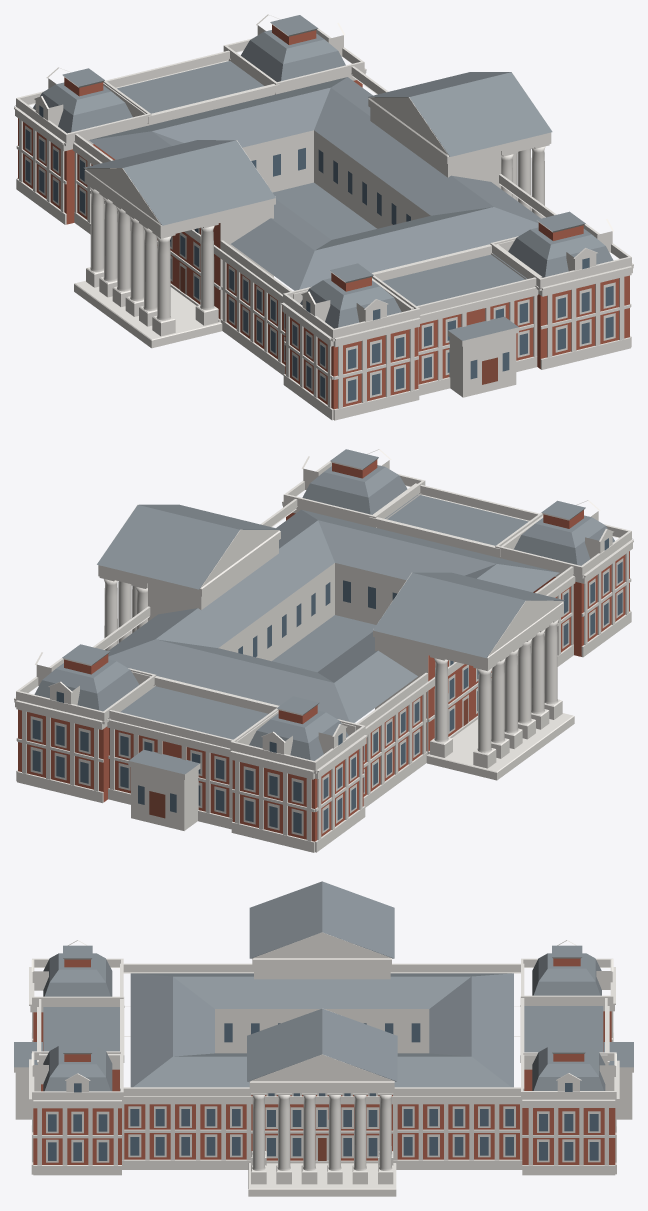
The model's file is cpt-parliament.glb.
3 views of the same model, one above another, from view 1: azimuth 30°, elevation 25°; view 2: azimuth 150°, elevation 25°; view 3: azimuth 270°, elevation 25° (orthographic). The views are drawn at different scales.
Visible parts, largest first — view 1: Houses of Parliament; view 2: Houses of Parliament; view 3: Houses of Parliament.
Part boxes in pixels (bbox=[...]): Houses of Parliament: bbox=[14, 14, 633, 420]; Houses of Parliament: bbox=[14, 449, 633, 852]; Houses of Parliament: bbox=[14, 881, 633, 1196].
Bounding box in the file's own units: 61.4 × 21.6 × 88.
